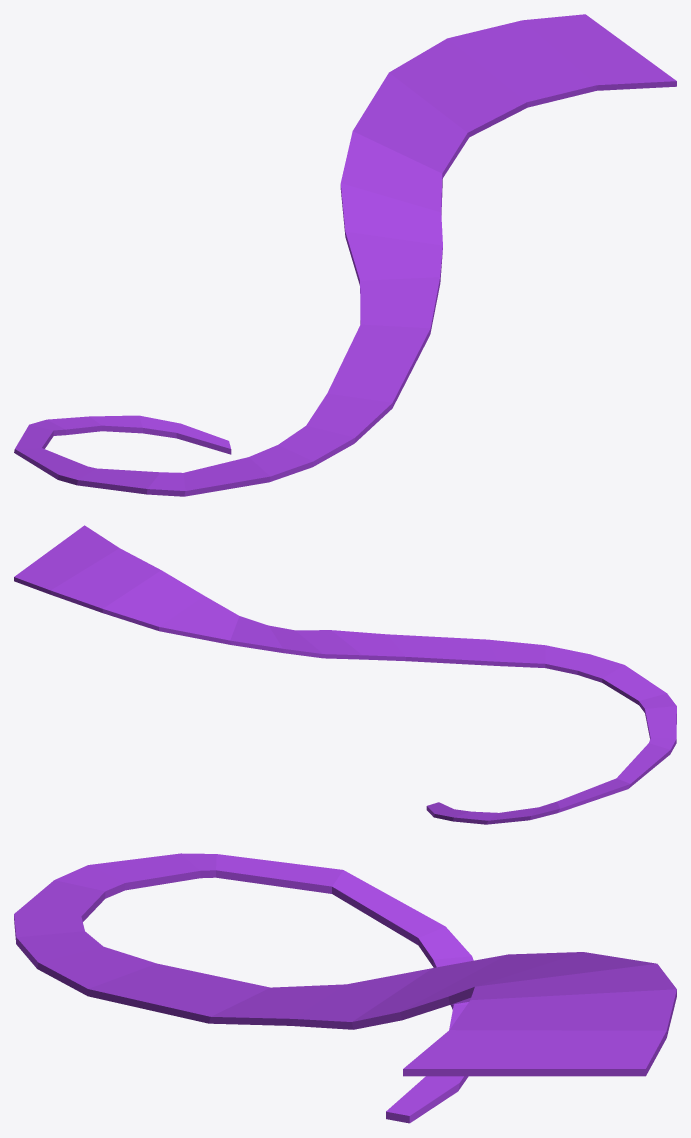
The model's file is Glass_101.fbx.
3 renders of one model, top to bottom at view 1: azimuth 30°, elevation 25°; view 2: azimuth 150°, elevation 25°; view 3: azimuth 270°, elevation 25°, orthographic. The views are drawn at different scales.
Visible parts, largest first — view 1: Glass_101; view 2: Glass_101; view 3: Glass_101.
Boxes of the visible parts, x1,y1,x2,y2 form: Glass_101: (14,14,676,496); Glass_101: (14,525,676,824); Glass_101: (14,853,676,1123).
Bounding box in the file's own units: 5743 × 2073 × 3606.
